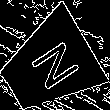N_SW: (19, 35, 79, 96)
